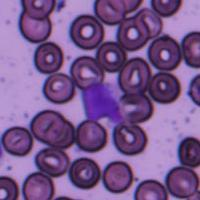L: (82, 82, 125, 123)
